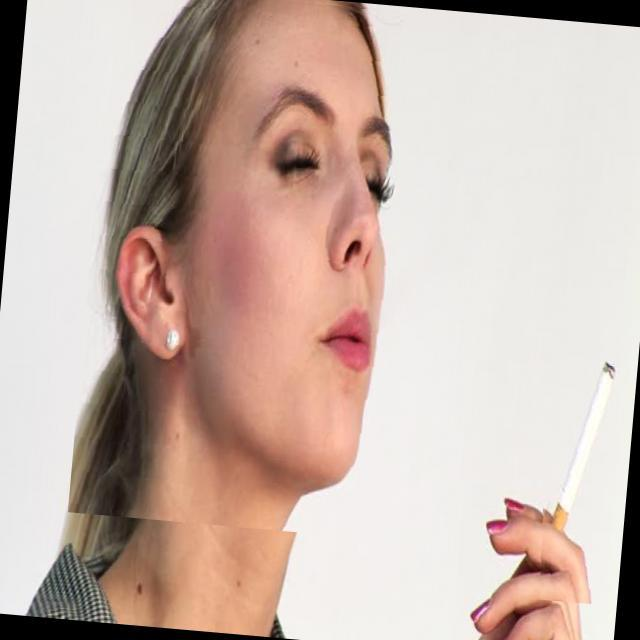cigarette: (526, 300, 630, 604)
